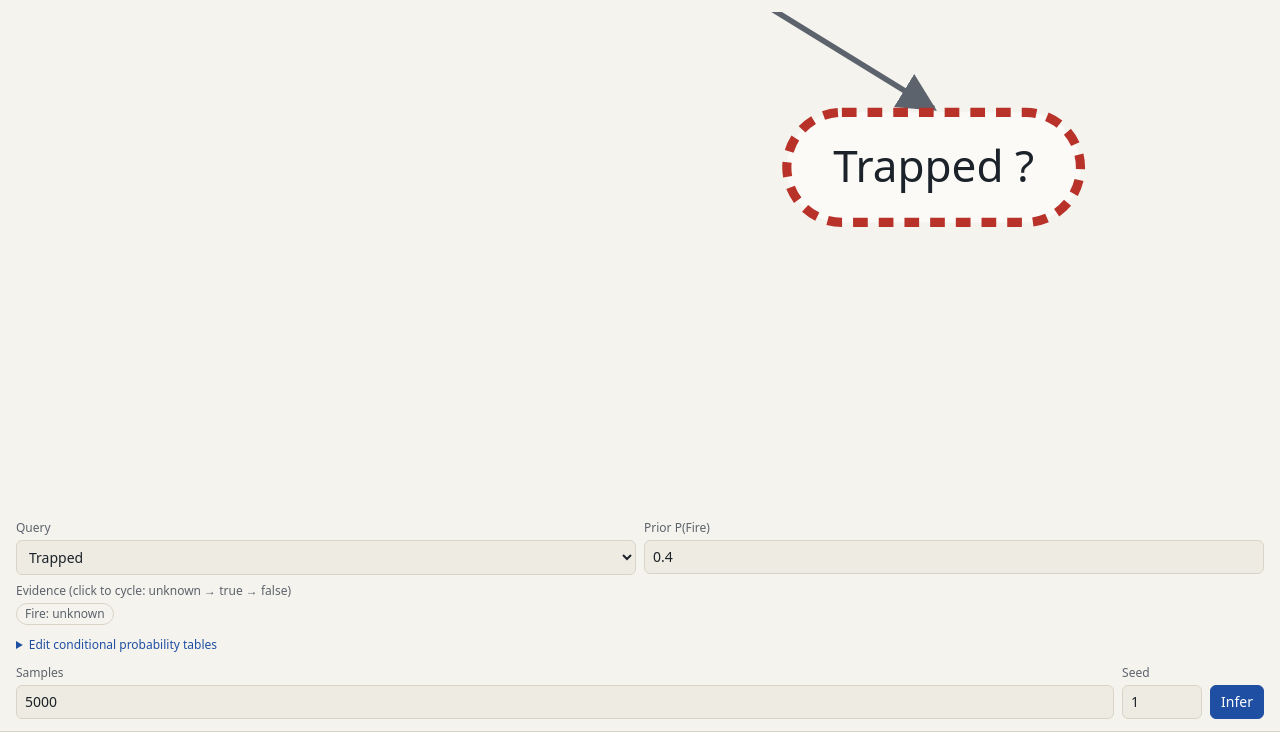
Test: UncertaintyPanel › posts the edited evidence and shows the exact posterior
(page scrolled)
Click the button "Fire: unknown".
click(65, 614)  # box [16,603,114,625]
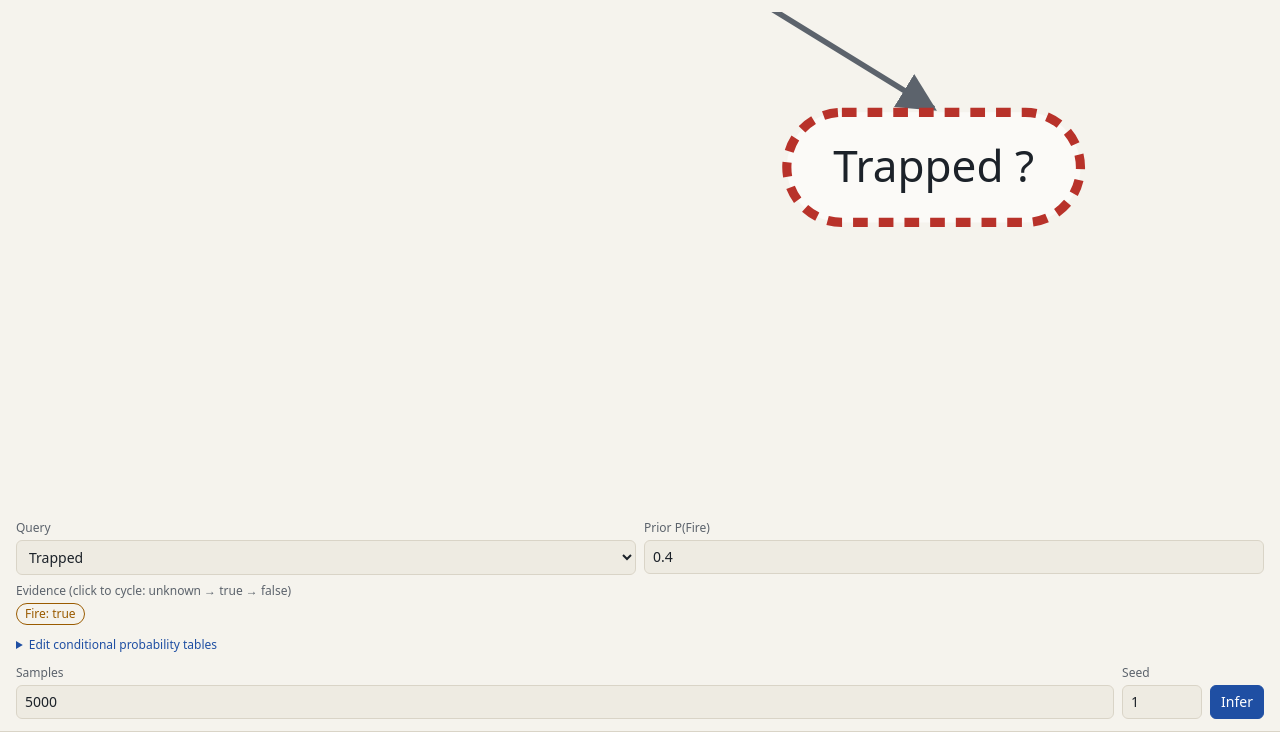
Click the button "Infer".
click(1237, 702)  # box [1210,685,1264,719]
(page scrolled)
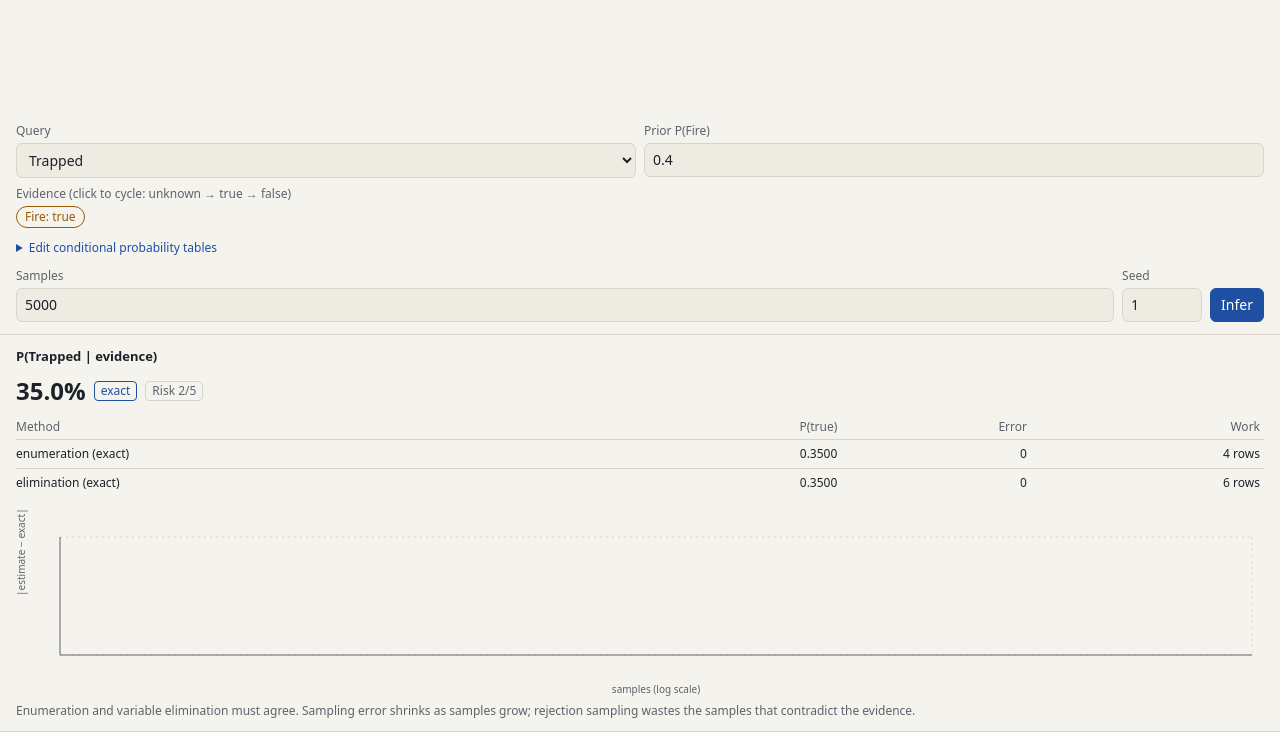
Now the text "35.0%" is shown, box [16,375,86,407]
Now the text "Risk 2/5" is shown, box [145,381,203,401]
